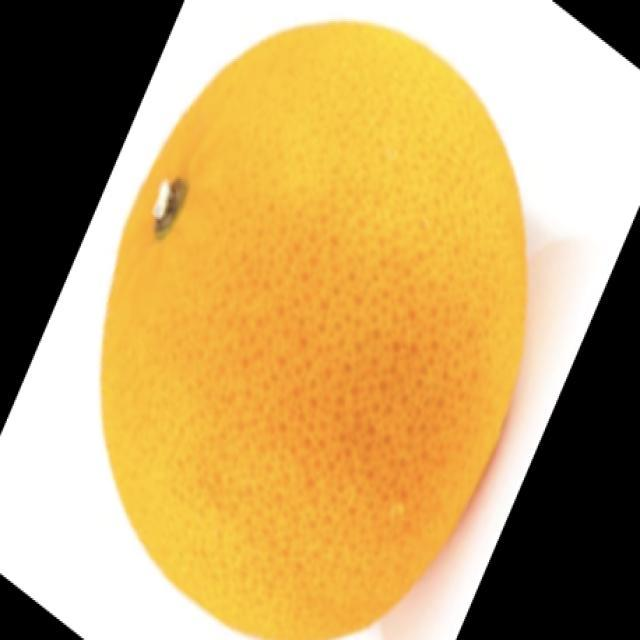matang: (102, 23, 526, 639)
